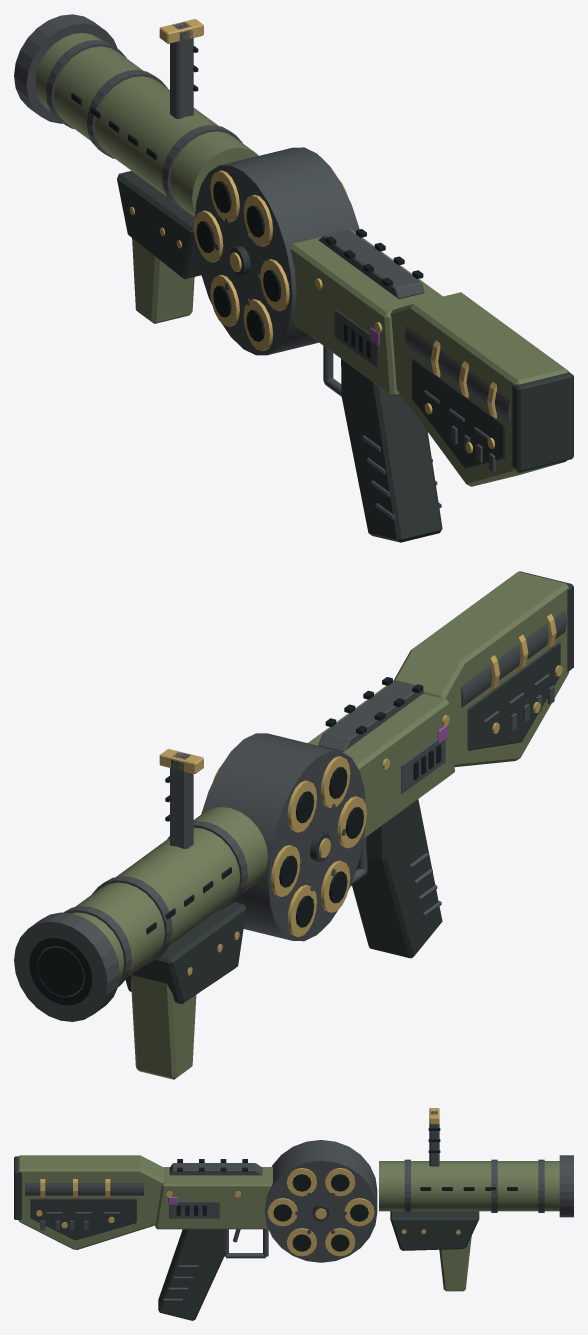
File: grenade_3.glb
The picture shows the model from 3 angles, top to bottom: view 1: azimuth 30°, elevation 25°; view 2: azimuth 150°, elevation 25°; view 3: azimuth 270°, elevation 25°; orthographic projection. The views are drawn at different scales.
Parts seen in each view (by area): view 1: Weapon_grenade_v1; view 2: Weapon_grenade_v1; view 3: Weapon_grenade_v1.
Boxes of the visible parts, left/top/right/bottom form: Weapon_grenade_v1: left=14, top=14, right=573, bottom=542; Weapon_grenade_v1: left=14, top=571, right=573, bottom=1079; Weapon_grenade_v1: left=14, top=1108, right=573, bottom=1320.
Bounding box in the file's own units: 0.086 × 0.3092 × 0.775.
